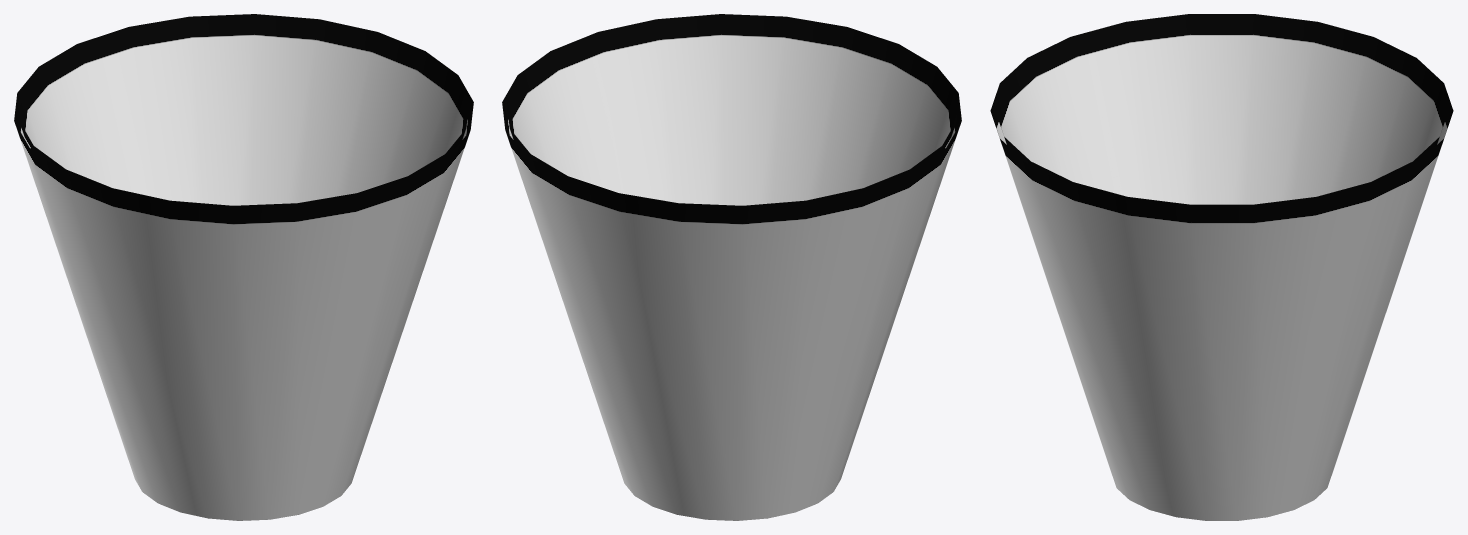
The model's file is ImpulseSpawnerBeam.fbx.
3 renders of one model, left to right at view 1: azimuth 30°, elevation 25°; view 2: azimuth 150°, elevation 25°; view 3: azimuth 270°, elevation 25°, orthographic.
Visible parts, largest first — view 1: Cylinder; view 2: Cylinder; view 3: Cylinder.
Boxes of the visible parts, x1,y1,x2,y2 form: Cylinder: (14, 14, 473, 520); Cylinder: (502, 14, 961, 520); Cylinder: (990, 14, 1453, 520).
Size of the model in its own units: 290 by 255 by 293.
